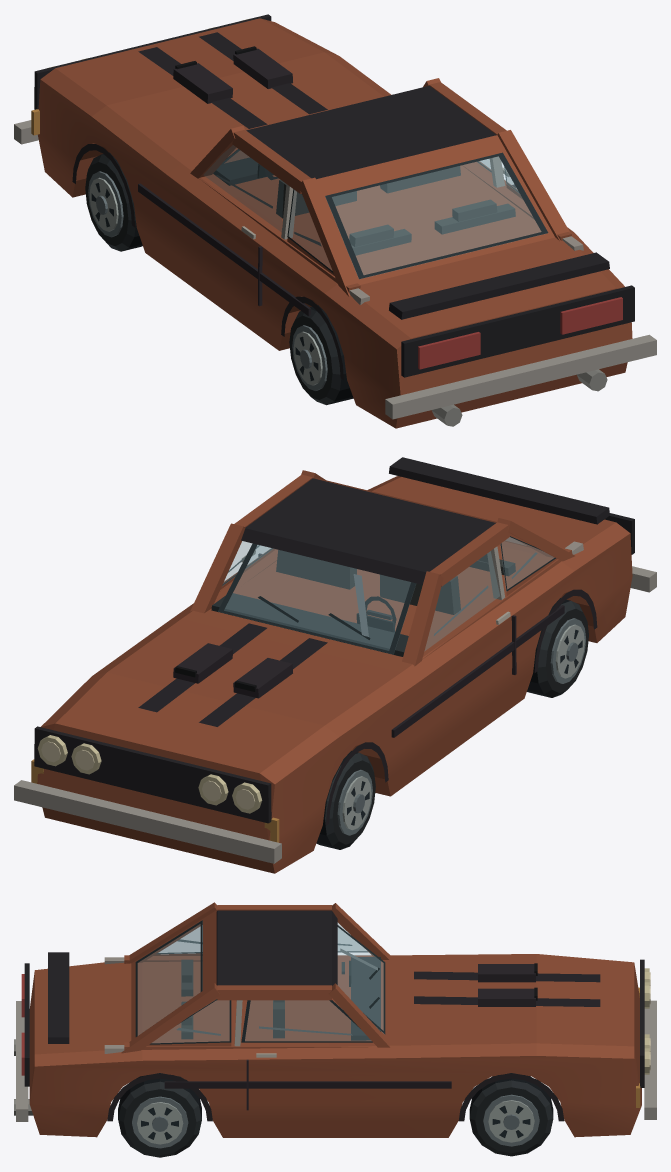
Rendered from muscle_cuivre.glb.
The picture shows the model from 3 angles, top to bottom: view 1: azimuth 30°, elevation 25°; view 2: azimuth 150°, elevation 25°; view 3: azimuth 270°, elevation 25°; orthographic projection. The views are drawn at different scales.
Parts seen in each view (by area): view 1: proposition_muscle_cuivre; view 2: proposition_muscle_cuivre; view 3: proposition_muscle_cuivre.
Boxes of the visible parts, bbox=[...] form: proposition_muscle_cuivre: bbox=[14, 14, 656, 428]; proposition_muscle_cuivre: bbox=[14, 457, 656, 873]; proposition_muscle_cuivre: bbox=[14, 902, 656, 1157].
Size of the model in its own units: 2.07 by 1.42 by 5.11.
